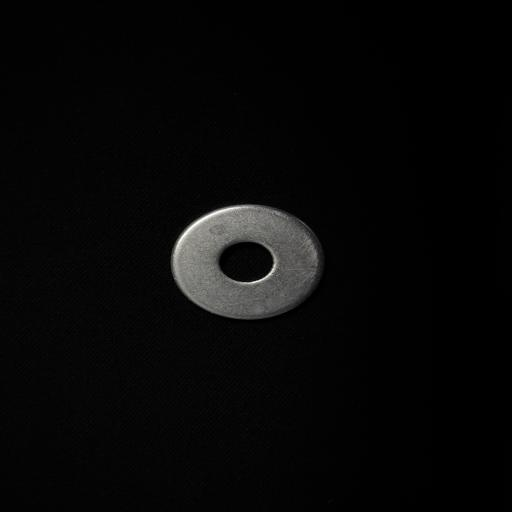Product: (171, 204, 324, 319)
Scratch: (291, 233, 326, 291), (258, 241, 281, 276)
